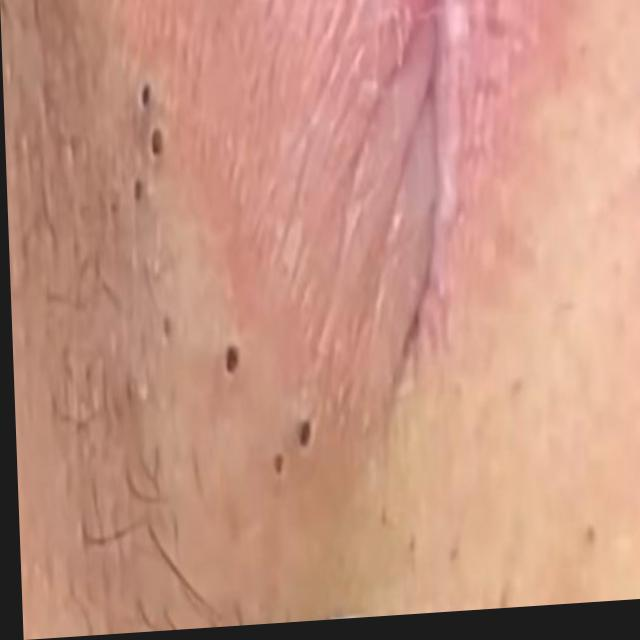dark spot: (210, 325, 248, 398), (286, 413, 317, 464), (143, 127, 170, 170), (131, 81, 158, 122), (261, 450, 288, 487), (122, 174, 142, 211)
